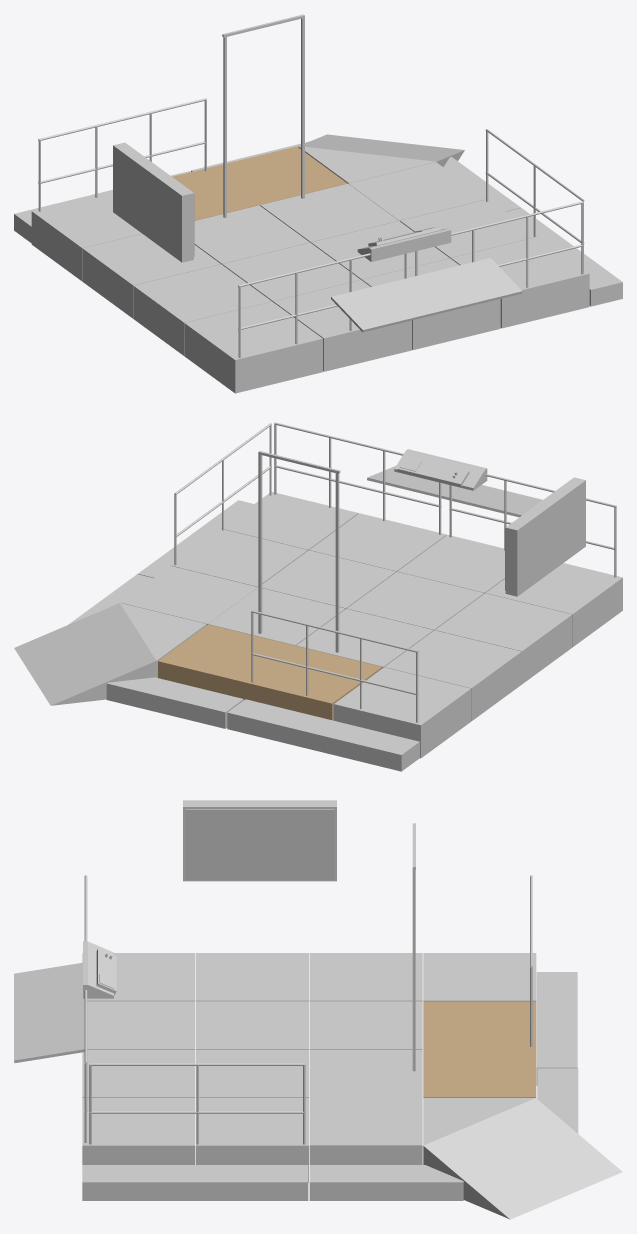
Rendered from VR_Stage2.fbx.
3 renders of one model, top to bottom at view 1: azimuth 30°, elevation 25°; view 2: azimuth 150°, elevation 25°; view 3: azimuth 270°, elevation 25°, orthographic. The views are drawn at different scales.
Parts seen in each view (by area): view 1: Cube.004, Cube.031, Cube.009, Cube.023, Cube.030, Cube.005, Cube.011, Cube.007, Cube.006, Cube.000, Cube.015, Cube.010 (+12 smaller); view 2: Cube.009, Cube.002, Cube.006, Cube.017, Cube.023, Cube.005, Cube.007, Cube.004, Cube.010, Cube.015, Cube.003, Cube.013 (+17 smaller); view 3: Cube.002, Cube.009, Cube.029, Cube.019, Cube.015, Cube.030, Cube.013, Cube.031, Cube.000, Cube.005, Cube.010, Cube.006 (+16 smaller).
Boxes of the visible parts, x1=… form: Cube.004: x1=184, y1=301, x2=322, y2=393; Cube.031: x1=331, y1=258, x2=522, y2=332; Cube.009: x1=172, y1=146, x2=347, y2=220; Cube.023: x1=113, y1=142, x2=193, y2=262; Cube.030: x1=451, y1=236, x2=589, y2=328; Cube.005: x1=133, y1=264, x2=271, y2=356; Cube.011: x1=273, y1=280, x2=411, y2=371; Cube.007: x1=82, y1=234, x2=220, y2=318; Cube.006: x1=31, y1=191, x2=141, y2=281; Cube.000: x1=260, y1=183, x2=398, y2=242; Cube.015: x1=348, y1=162, x2=485, y2=221; Cube.010: x1=222, y1=242, x2=360, y2=301; Cube.009: x1=158, y1=624, x2=382, y2=720; Cube.002: x1=14, y1=603, x2=156, y2=705; Cube.006: x1=334, y1=667, x2=471, y2=758; Cube.017: x1=227, y1=699, x2=419, y2=771; Cube.023: x1=505, y1=477, x2=585, y2=596; Cube.005: x1=435, y1=593, x2=572, y2=684; Cube.007: x1=384, y1=630, x2=521, y2=721; Cube.004: x1=486, y1=563, x2=622, y2=647; Cube.010: x1=347, y1=571, x2=484, y2=630; Cube.015: x1=121, y1=566, x2=257, y2=624; Cube.003: x1=309, y1=513, x2=446, y2=572; Cube.013: x1=170, y1=529, x2=307, y2=586; Cube.002: x1=423, y1=1098, x2=622, y2=1219; Cube.009: x1=423, y1=1001, x2=536, y2=1097; Cube.029: x1=185, y1=809, x2=334, y2=879; Cube.019: x1=82, y1=1165, x2=308, y2=1200; Cube.015: x1=309, y1=1097, x2=422, y2=1164; Cube.030: x1=82, y1=1098, x2=195, y2=1164; Cube.013: x1=196, y1=1098, x2=308, y2=1182; Cube.031: x1=14, y1=962, x2=84, y2=1062; Cube.000: x1=309, y1=1049, x2=422, y2=1097; Cube.005: x1=196, y1=953, x2=308, y2=1001; Cube.010: x1=196, y1=1001, x2=308, y2=1049; Cube.006: x1=423, y1=953, x2=536, y2=1001.
Size of the model in its own units: 538 by 259 by 593.
